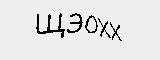О: (86, 14, 100, 37)
Х: (108, 23, 126, 44), (95, 18, 112, 39)
Щ: (34, 12, 64, 37)
Э: (66, 12, 82, 36)
